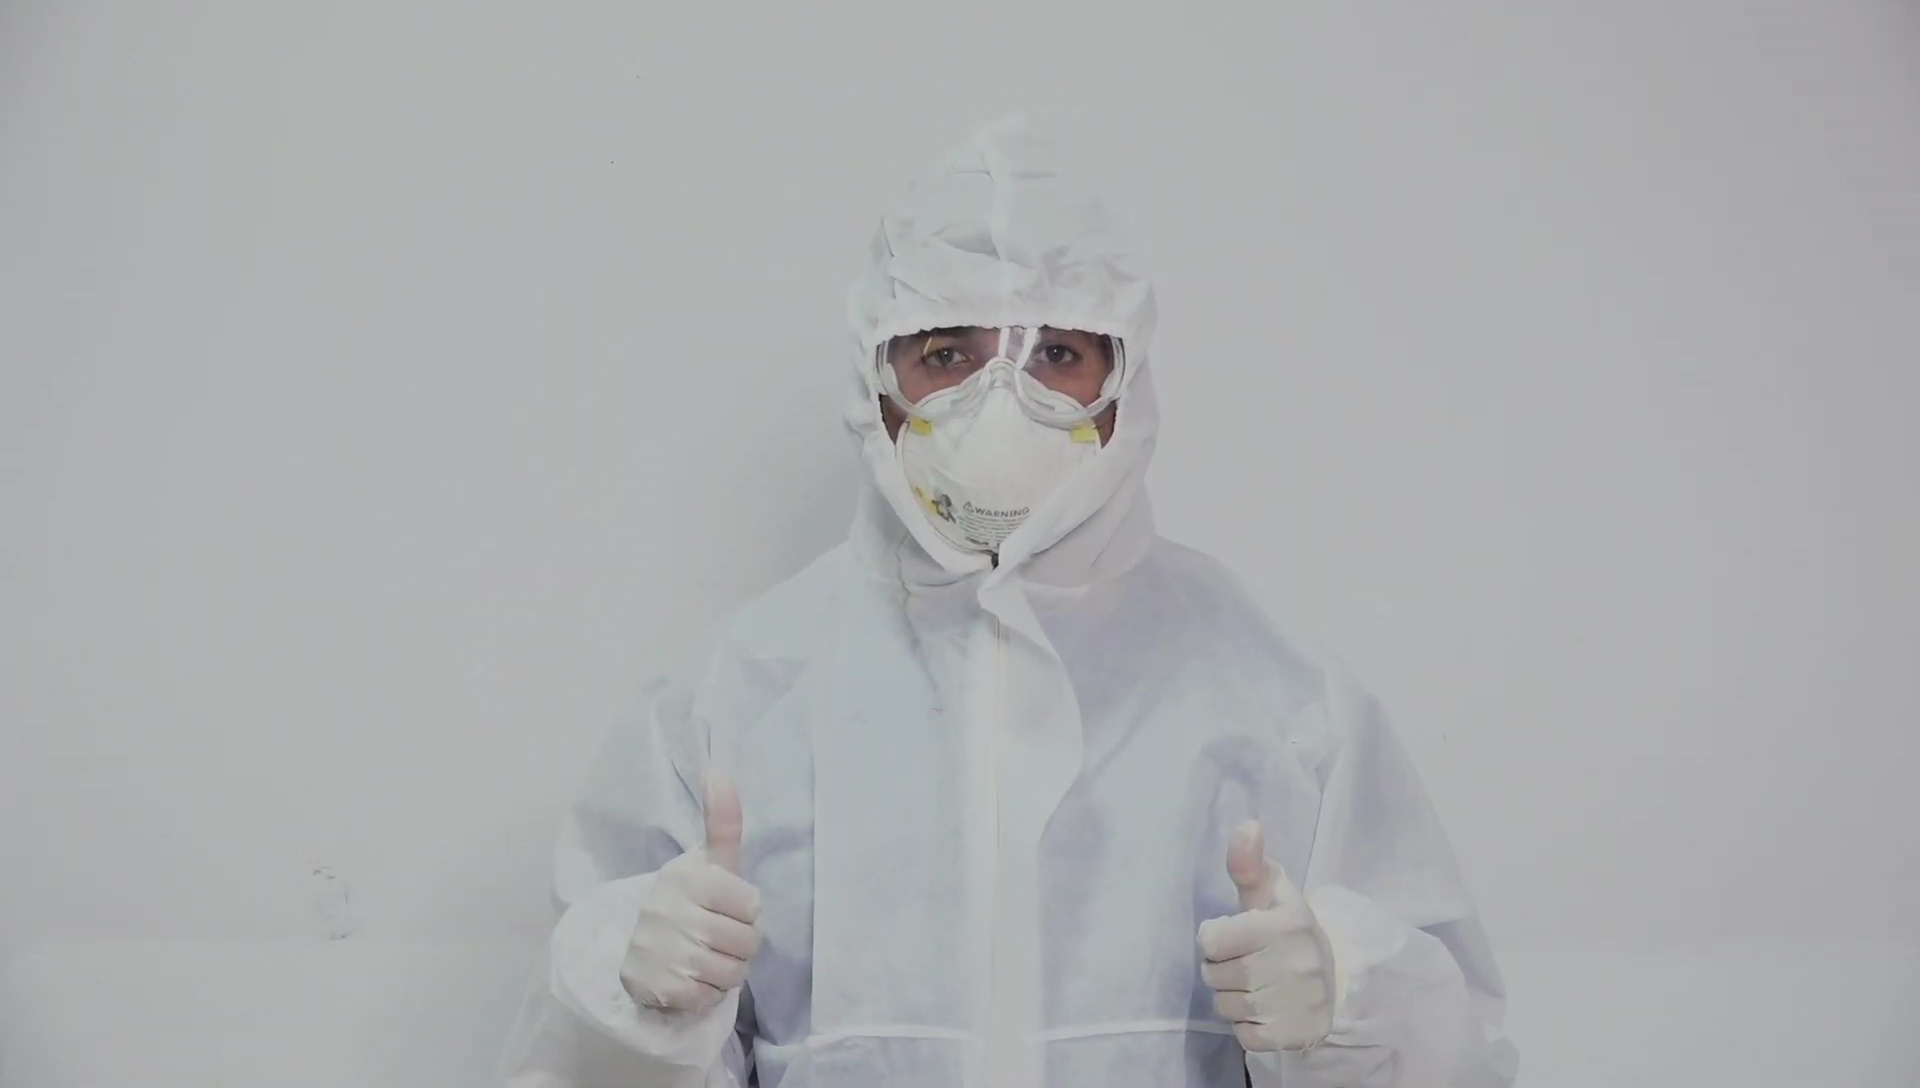Coverall: (492, 117, 1519, 1085)
Gloves: (620, 765, 765, 1014), (1193, 817, 1334, 1055), (875, 324, 1129, 431)
with_mask: (896, 367, 1105, 553)
